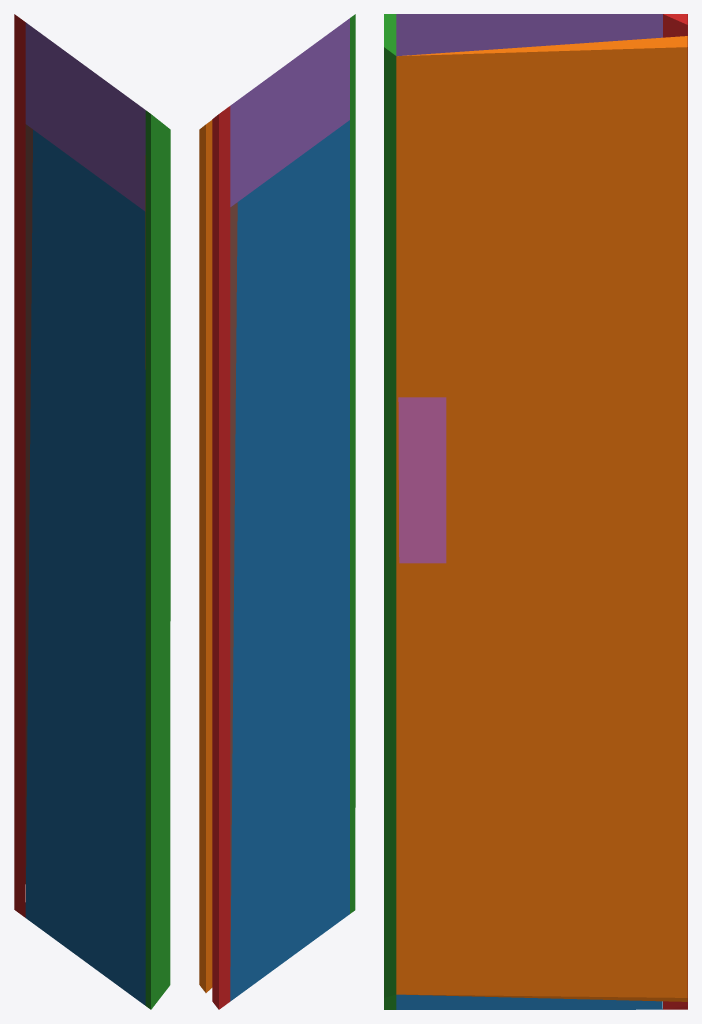
Rendered from Wall_01_cvx.obj.
3 renders of one model, left to right at view 1: azimuth 30°, elevation 25°; view 2: azimuth 150°, elevation 25°; view 3: azimuth 270°, elevation 25°, orthographic. The views are drawn at different scales.
Visible parts, largest first — view 1: scenes/apartment_0000_coacd/output/Unknown/Wall_01/cvx/Wall_0100; view 2: scenes/apartment_0000_coacd/output/Unknown/Wall_01/cvx/Wall_0100; view 3: scenes/apartment_0000_coacd/output/Unknown/Wall_01/cvx/Wall_0100.
Part boxes in pixels (x1=…): scenes/apartment_0000_coacd/output/Unknown/Wall_01/cvx/Wall_0100: x1=14, y1=14, x2=170, y2=1009; scenes/apartment_0000_coacd/output/Unknown/Wall_01/cvx/Wall_0100: x1=199, y1=14, x2=355, y2=1009; scenes/apartment_0000_coacd/output/Unknown/Wall_01/cvx/Wall_0100: x1=384, y1=14, x2=687, y2=1009.
Bounding box in the file's own units: 0.4051 × 13.91 × 3.84.
